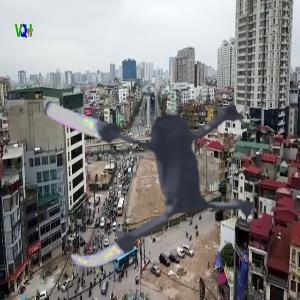drone: (23, 34, 285, 296)
